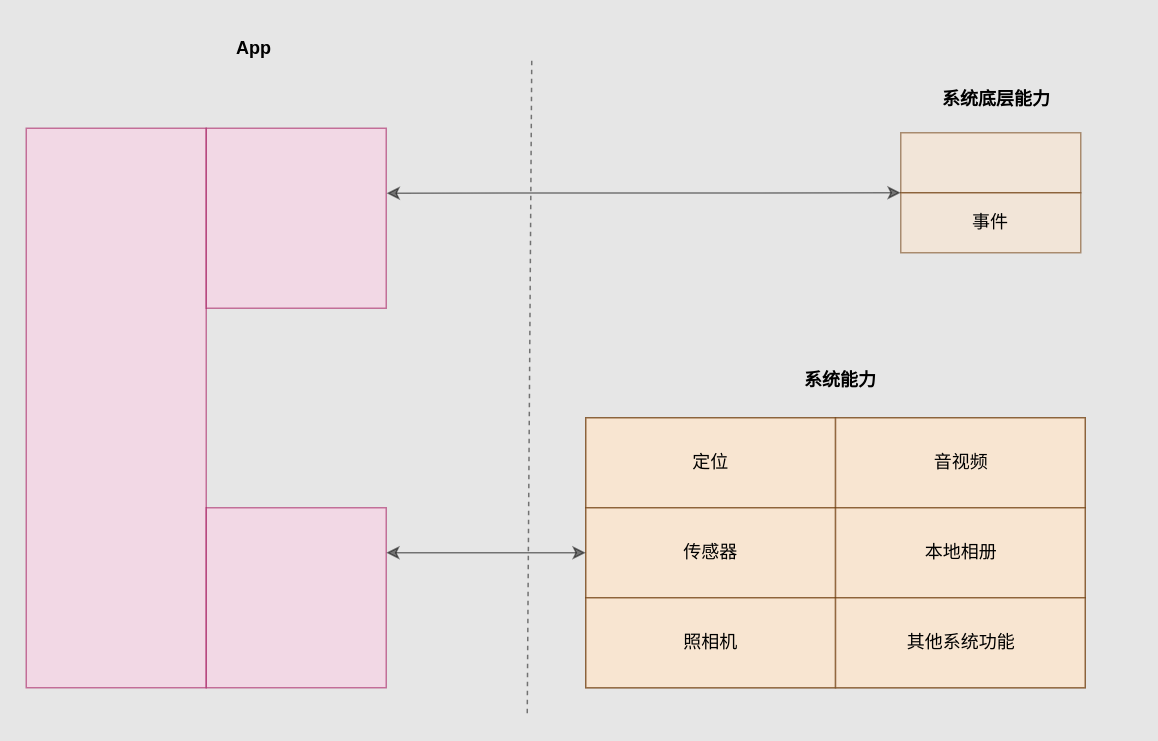
The diagram is 1158 pixels wide and 741 high, and some of its shapes have lost their labels. Here are the shapes that lost their labels. From the top down, the centre of each, then its label:
At point (990, 162): "系统绘制".
At point (295, 217): "自绘组件".
At point (115, 407): "代码".
At point (295, 597): "平台插件".
